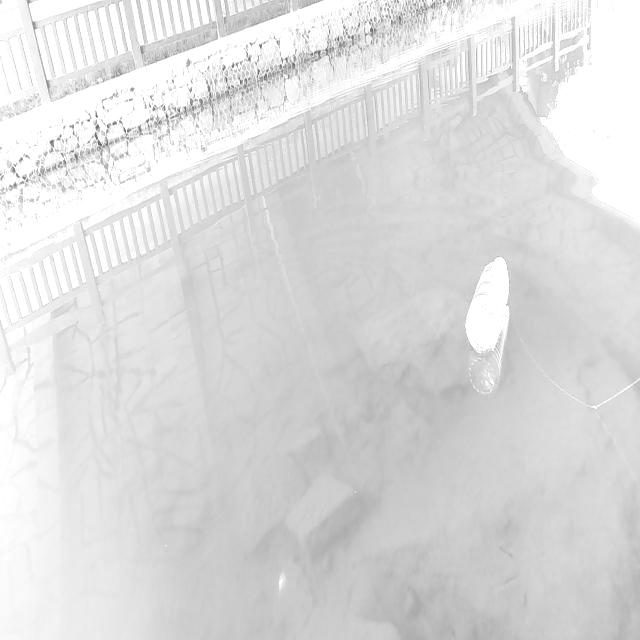bottle: (444, 228, 527, 376)
